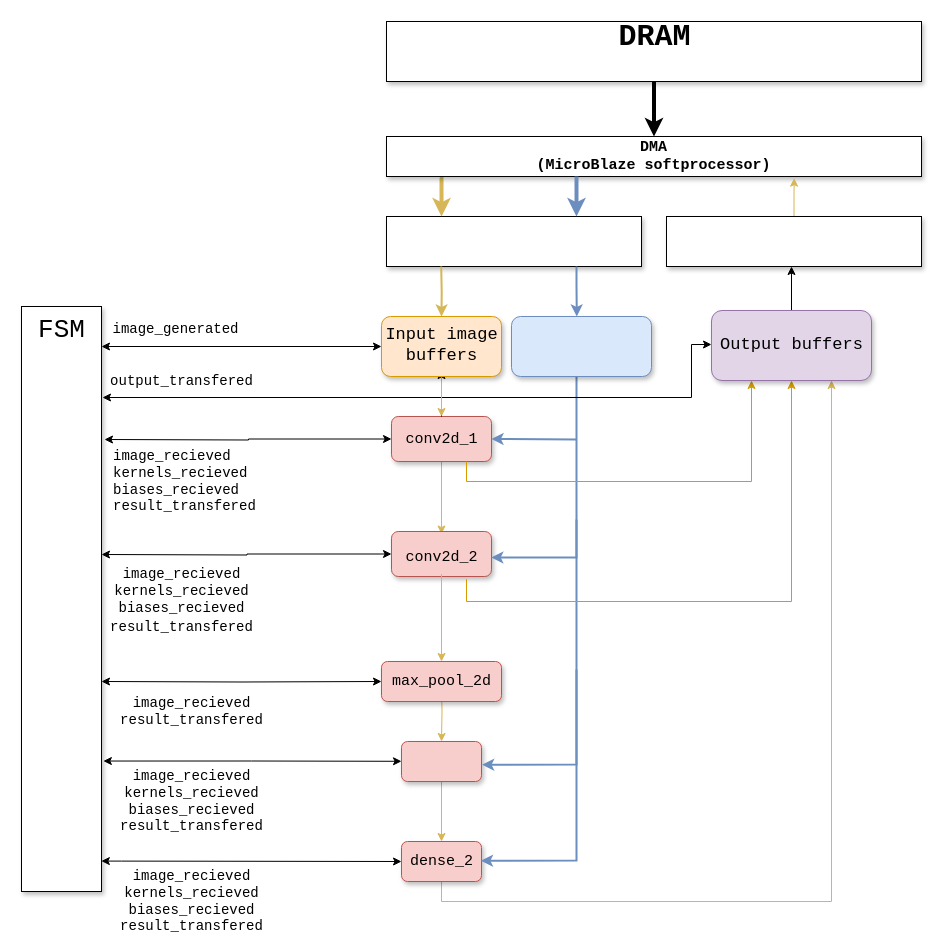
Some shapes in this 945 by 952 pixel diagram are drawn without their labels. The centre of each missing label's shape, as x and y in pixels:
Data Parallelizer: the point at 515,243
Data Serializer: the point at 795,243
dense_1: the point at 442,762
Input weights buffers: the point at 582,348
